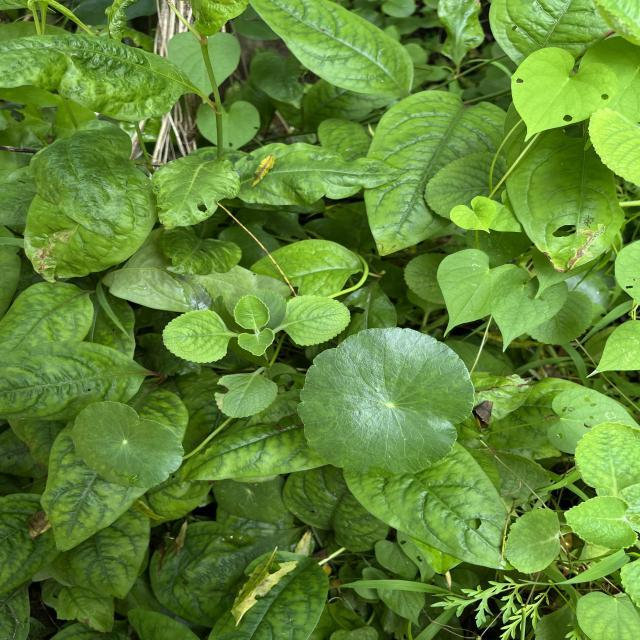Bacopa monnieri: (296, 326, 478, 480), (70, 398, 186, 490)
